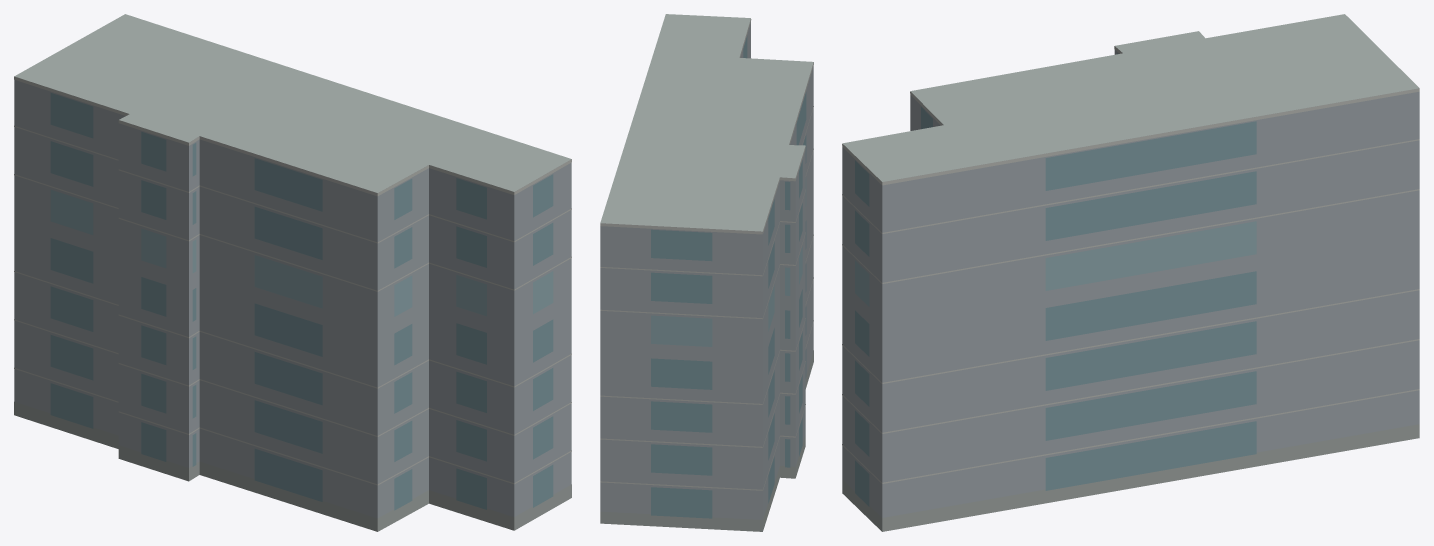
Rendered from survey-upis-32650580.glb.
3 renders of one model, left to right at view 1: azimuth 30°, elevation 25°; view 2: azimuth 150°, elevation 25°; view 3: azimuth 270°, elevation 25°, orthographic. The views are drawn at different scales.
Visible parts, largest first — view 1: survey-upis-32650580.tmp; view 2: survey-upis-32650580.tmp; view 3: survey-upis-32650580.tmp.
Part boxes in pixels (x1=…): survey-upis-32650580.tmp: x1=14, y1=14, x2=571, y2=531; survey-upis-32650580.tmp: x1=600, y1=14, x2=813, y2=531; survey-upis-32650580.tmp: x1=842, y1=14, x2=1419, y2=531.
Size of the model in its own units: 25.78 by 25 by 37.42.
